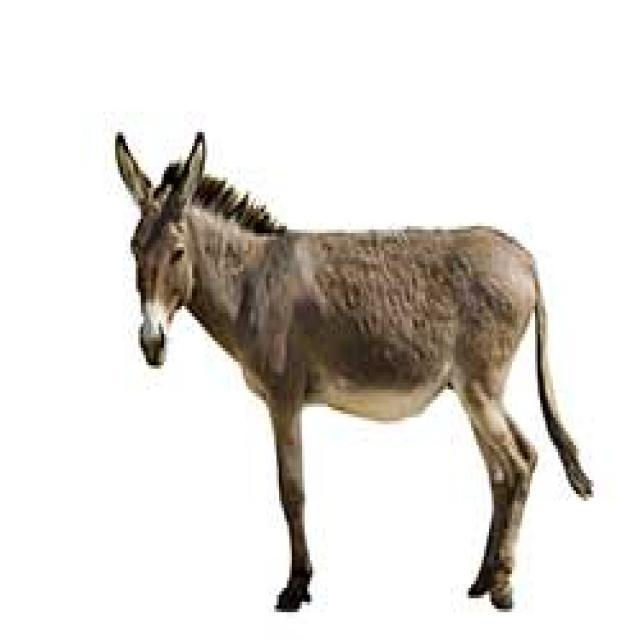Donkey: (113, 124, 594, 613)
